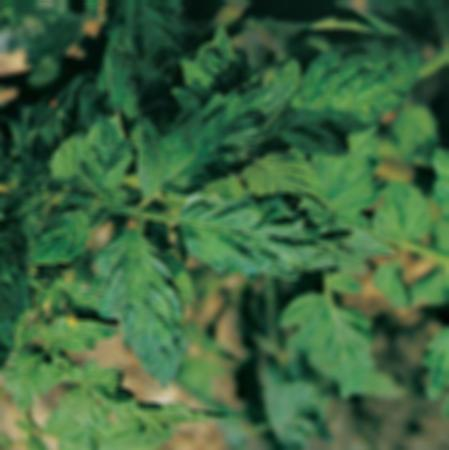Tomato leaf mosaic virus: (183, 180, 390, 280), (134, 80, 290, 201), (272, 39, 419, 152), (98, 229, 194, 378), (89, 103, 132, 206), (34, 199, 99, 261)
